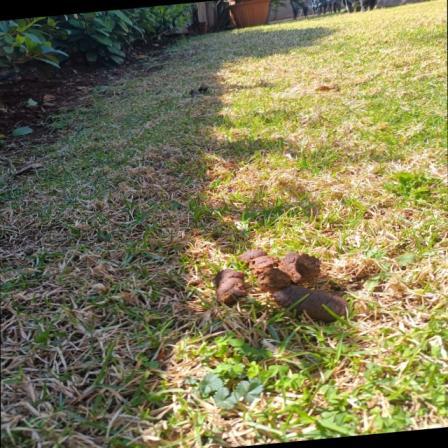dog-poop: (217, 243, 357, 323)
